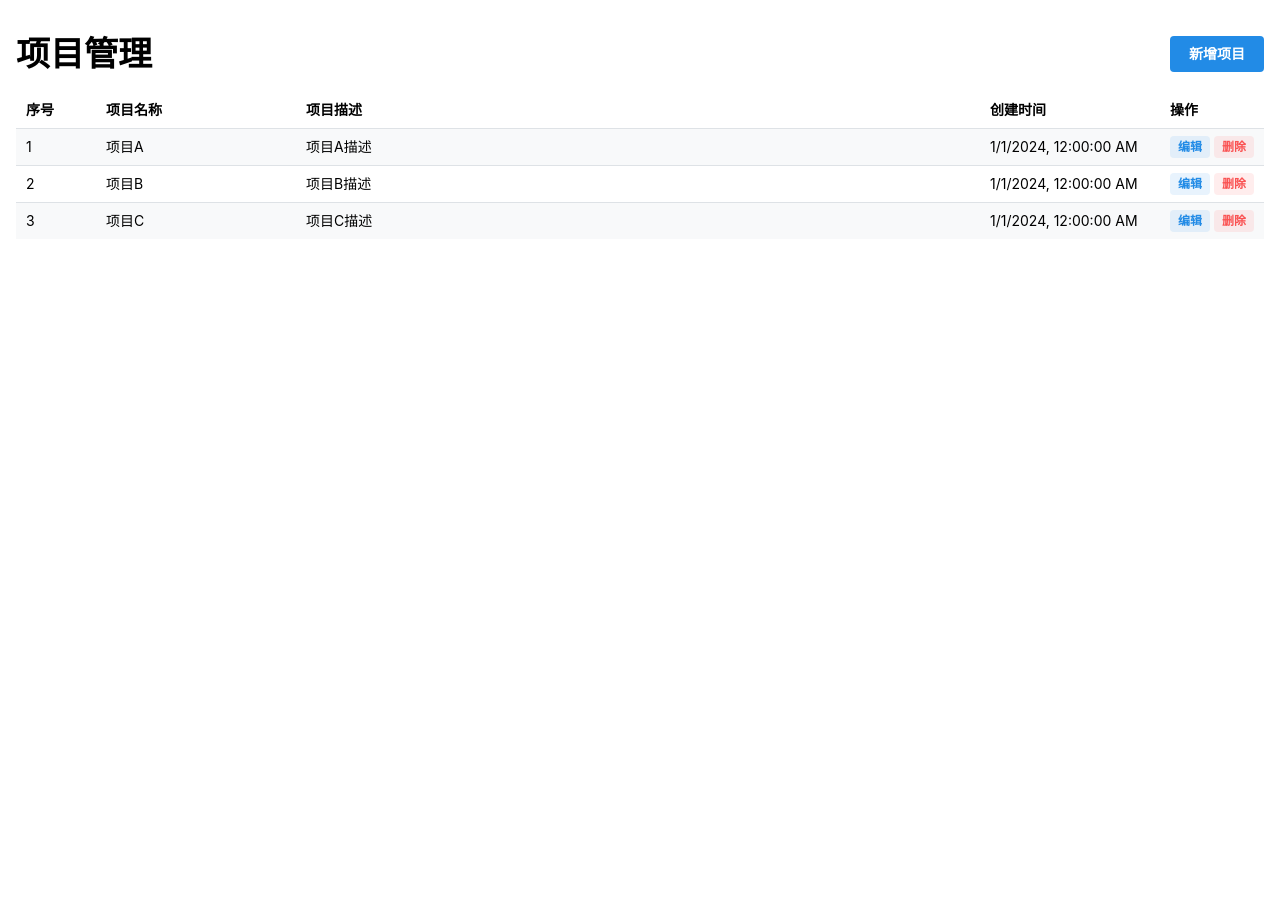
Scenario: ProjectManagementPage 页面 › 创建项目 › 创建项目后项目列表刷新
Expected: the text "项目A" is shown, [96, 128, 296, 165]
Click the button "新增项目" at [1217, 54], box [1170, 36, 1264, 72]
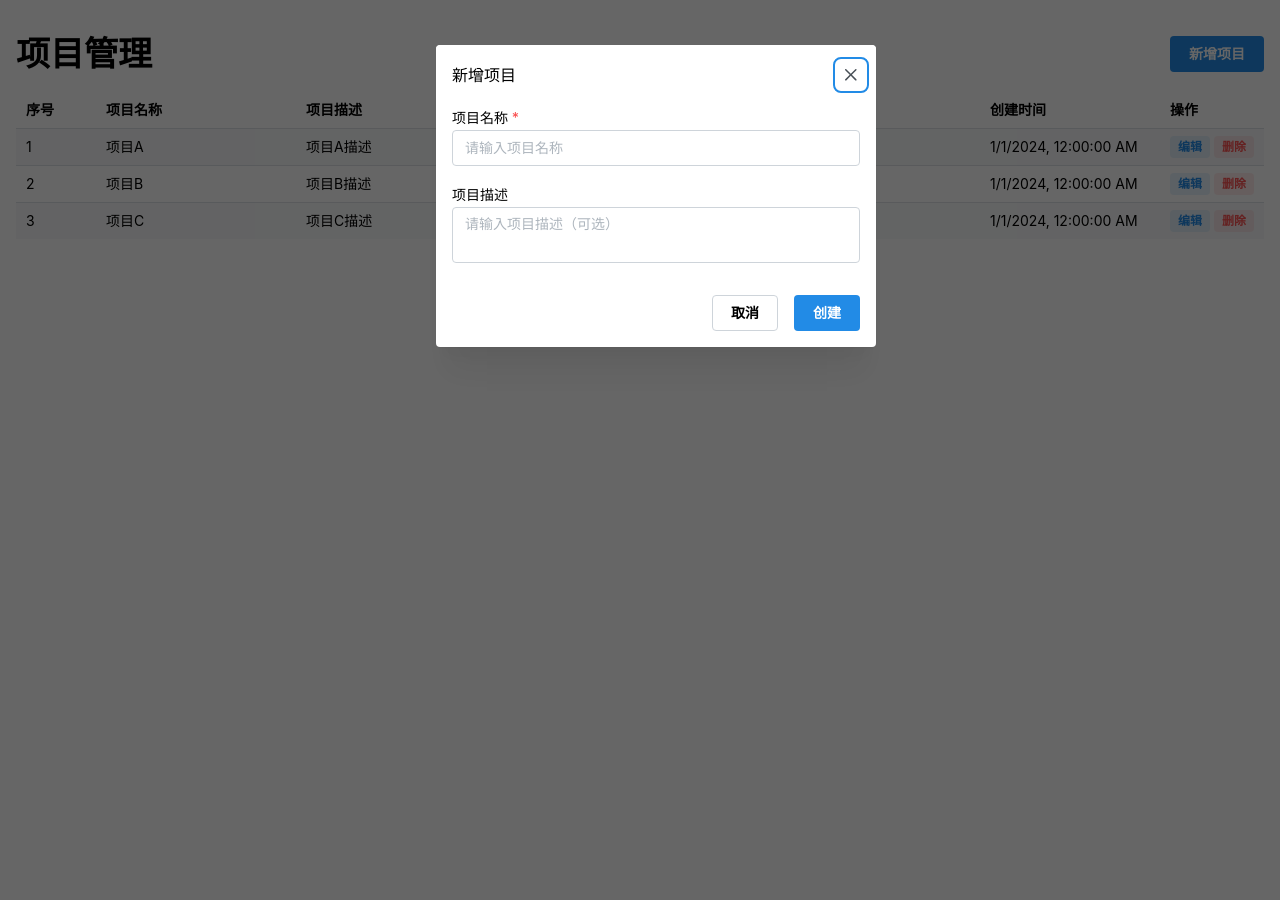
Expected: the dialog is shown, [436, 45, 876, 347]
Type "新项目" into the field with placeholder "请输入项目名称" at [656, 148], box [452, 130, 860, 166]
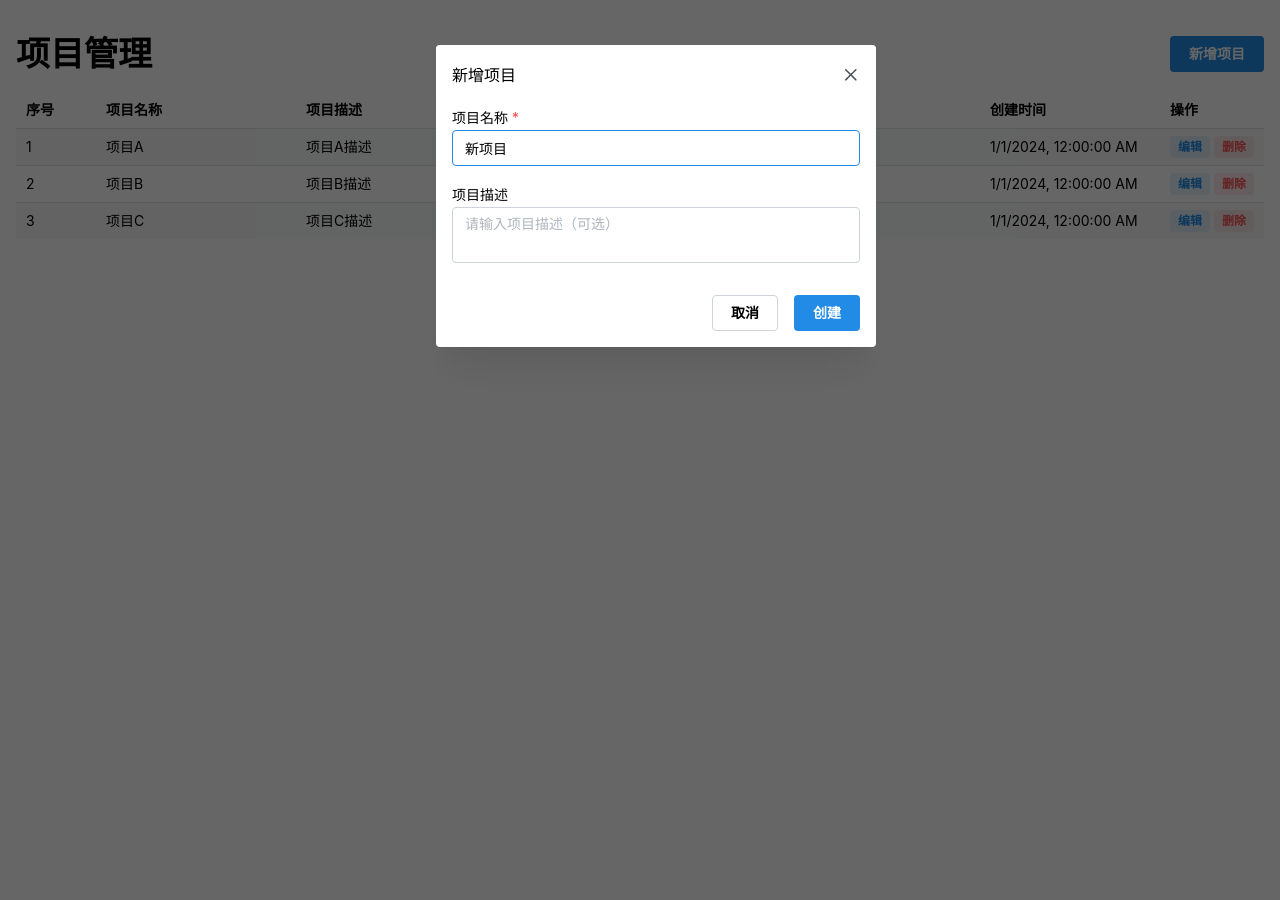
Click the button "创建" at [827, 313], box [794, 295, 860, 331]
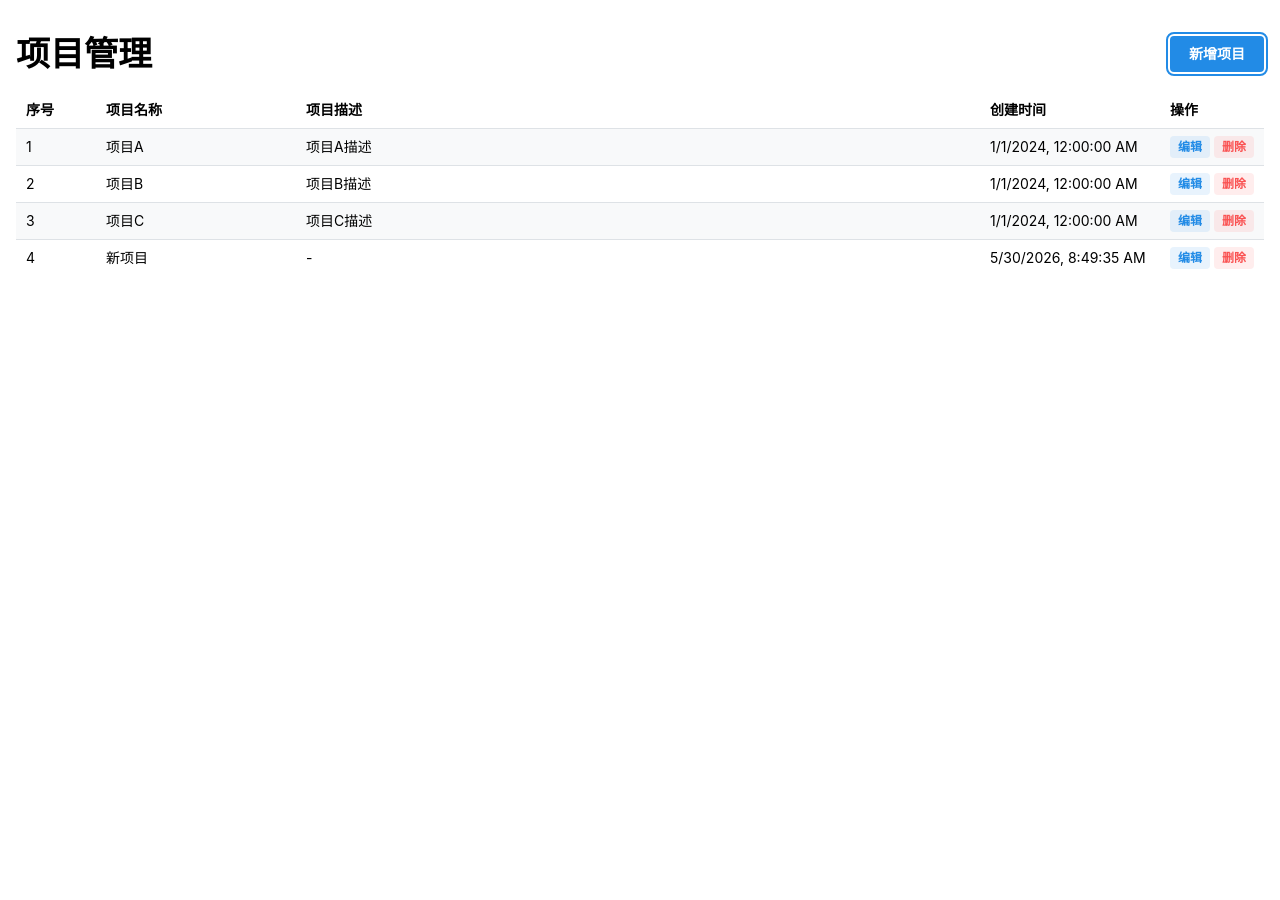
Expected: the text "新项目" is shown, [96, 239, 296, 276]
